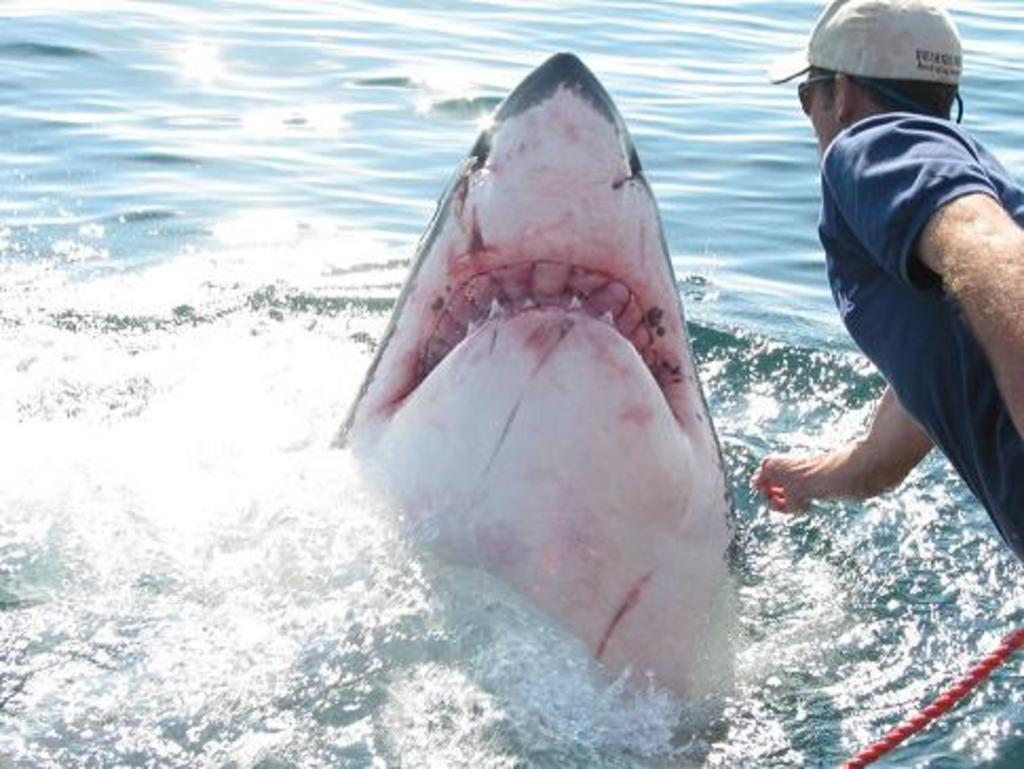Person: (748, 0, 1024, 562)
